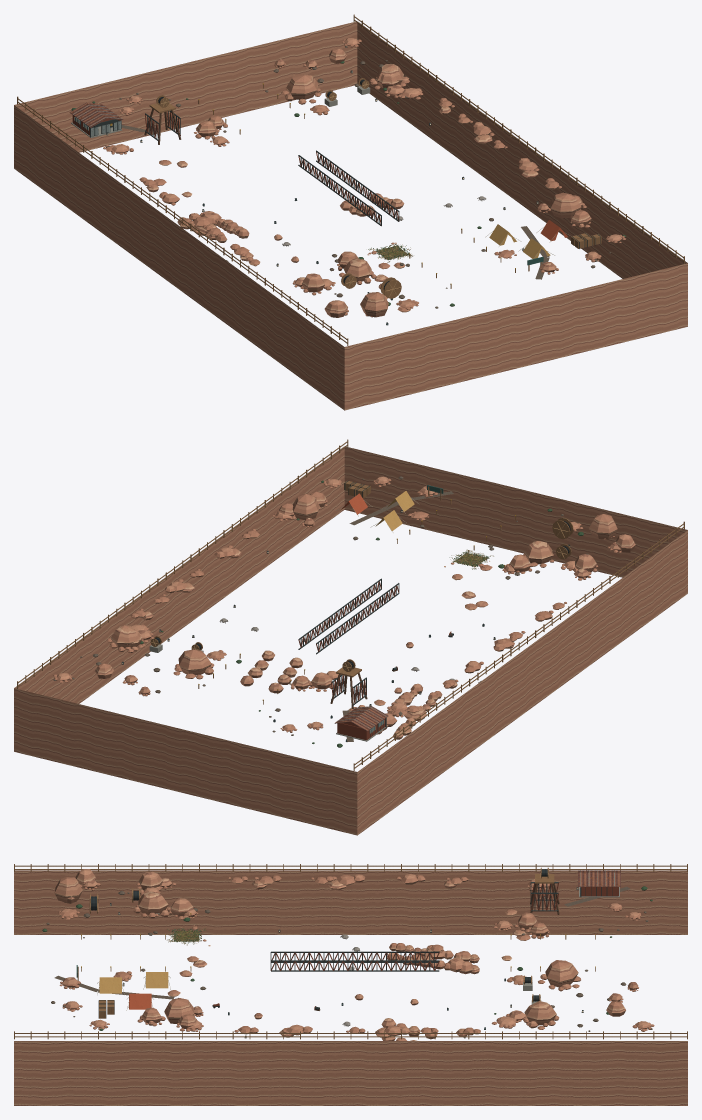
Rendered from Canyon Survey.fbx.
3 views of the same model, one above another, from view 1: azimuth 30°, elevation 25°; view 2: azimuth 150°, elevation 25°; view 3: azimuth 270°, elevation 25° (orthographic).
Visible parts, largest first — view 1: Exposed rim geology_-2_0_detail, Exposed rim geology_-1_0_detail, Exposed rim geology_0_0_detail, Exposed rim geology_0_4_detail, Exposed rim geology_1_4_detail, Exposed rim geology_-2_4_detail, Exposed rim geology_1_0_detail, Exposed rim geology_-1_4_detail, Exposed rim geology_-2_3_detail, Exposed rim geology_-2_1_detail, Exposed rim geology_-2_2_detail, Exposed rim geology_1_3_detail (+14 smaller); view 2: Exposed rim geology_-2_4_detail, Exposed rim geology_-1_4_detail, Exposed rim geology_0_4_detail, Exposed rim geology_0_0_detail, Exposed rim geology_1_0_detail, Exposed rim geology_-2_0_detail, Exposed rim geology_1_4_detail, Exposed rim geology_-1_0_detail, Exposed rim geology_-2_1_detail, Exposed rim geology_-2_3_detail, Exposed rim geology_-2_2_detail, Exposed rim geology_1_1_detail (+13 smaller); view 3: Exposed rim geology_1_0_detail, Exposed rim geology_1_1_detail, Exposed rim geology_1_3_detail, Exposed rim geology_1_4_detail, Exposed rim geology_1_2_detail, Exposed rim geology_-2_2_detail, Exposed rim geology_-2_3_detail, Exposed rim geology_-2_4_detail, Exposed rim geology_-2_1_detail, Exposed rim geology_-2_0_detail, Shaft ledges and fallen rock_-1_3_solid, Trestle steelwork_0_2_solid (+28 smaller).
Part boxes in pixels (left/top/right/bottom): Exposed rim geology_-2_0_detail: left=278, top=298, right=401, bottom=410; Exposed rim geology_-1_0_detail: left=401, top=305, right=516, bottom=396; Exposed rim geology_0_0_detail: left=516, top=277, right=630, bottom=368; Exposed rim geology_0_4_detail: left=185, top=35, right=300, bottom=126; Exposed rim geology_1_4_detail: left=300, top=21, right=423, bottom=133; Exposed rim geology_-2_4_detail: left=14, top=91, right=80, bottom=216; Exposed rim geology_1_0_detail: left=621, top=215, right=687, bottom=340; Exposed rim geology_-1_4_detail: left=71, top=63, right=185, bottom=152; Exposed rim geology_-2_3_detail: left=80, top=154, right=146, bottom=265; Exposed rim geology_-2_1_detail: left=211, top=250, right=277, bottom=361; Exposed rim geology_-2_2_detail: left=146, top=202, right=211, bottom=312; Exposed rim geology_1_3_detail: left=424, top=70, right=490, bottom=181; Exposed rim geology_-2_4_detail: left=300, top=723, right=423, bottom=835; Exposed rim geology_-1_4_detail: left=185, top=730, right=300, bottom=821; Exposed rim geology_0_4_detail: left=71, top=702, right=185, bottom=793; Exposed rim geology_0_0_detail: left=401, top=460, right=516, bottom=551; Exposed rim geology_1_0_detail: left=278, top=446, right=401, bottom=558; Exposed rim geology_-2_0_detail: left=621, top=516, right=687, bottom=641; Exposed rim geology_1_4_detail: left=14, top=640, right=80, bottom=765; Exposed rim geology_-1_0_detail: left=516, top=488, right=630, bottom=577; Exposed rim geology_-2_1_detail: left=555, top=579, right=621, bottom=690; Exposed rim geology_-2_3_detail: left=424, top=675, right=490, bottom=786; Exposed rim geology_-2_2_detail: left=490, top=627, right=555, bottom=737; Exposed rim geology_1_1_detail: left=211, top=495, right=277, bottom=606; Exposed rim geology_1_0_detail: left=14, top=1041, right=149, bottom=1105; Exposed rim geology_1_1_detail: left=149, top=1041, right=284, bottom=1105; Exposed rim geology_1_3_detail: left=417, top=1041, right=552, bottom=1105; Exposed rim geology_1_4_detail: left=552, top=1041, right=687, bottom=1105; Exposed rim geology_1_2_detail: left=284, top=1041, right=417, bottom=1105; Exposed rim geology_-2_2_detail: left=284, top=870, right=417, bottom=934; Exposed rim geology_-2_3_detail: left=417, top=870, right=552, bottom=934; Exposed rim geology_-2_4_detail: left=552, top=870, right=687, bottom=934; Exposed rim geology_-2_1_detail: left=149, top=870, right=284, bottom=934; Exposed rim geology_-2_0_detail: left=14, top=870, right=149, bottom=934; Shaft ledges and fallen rock_-1_3_solid: left=420, top=909, right=530, bottom=974; Trestle steelwork_0_2_solid: left=271, top=960, right=419, bottom=971.
Bounding box in the file's own units: 9596 × 2893 × 16000.
Materials: 1 (1 with a texture image).
